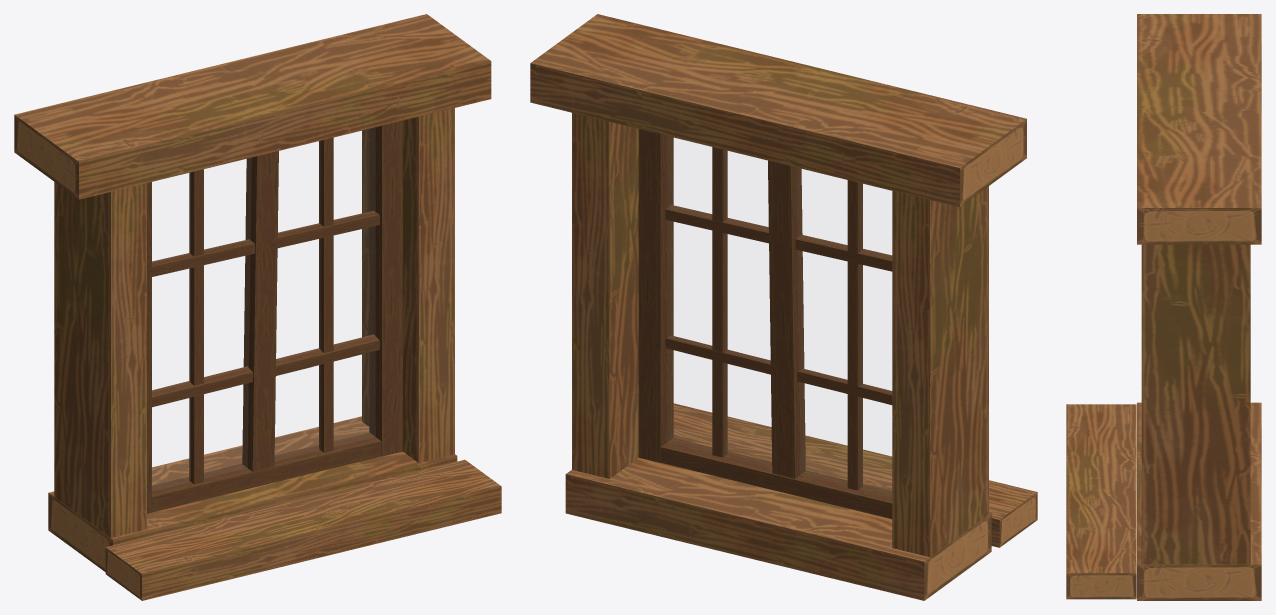
3 renders of one model, left to right at view 1: azimuth 30°, elevation 25°; view 2: azimuth 150°, elevation 25°; view 3: azimuth 270°, elevation 25°, orthographic. The views are drawn at different scales.
Visible parts, largest first — view 1: Window_Wide_Flat1; view 2: Window_Wide_Flat1; view 3: Window_Wide_Flat1.
Part boxes in pixels (<box>): Window_Wide_Flat1: <box>14,14,501,600</box>; Window_Wide_Flat1: <box>530,14,1037,600</box>; Window_Wide_Flat1: <box>1066,14,1261,600</box>.
Bounding box in the file's own units: 1.61 × 1.58 × 0.6834.
2 materials, 1 textured.
